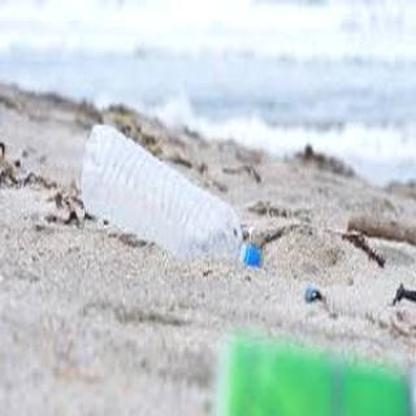plastic bottle: (81, 125, 262, 267)
